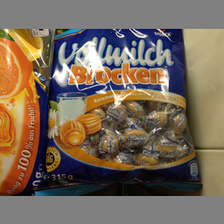candy: (52, 29, 199, 193)
